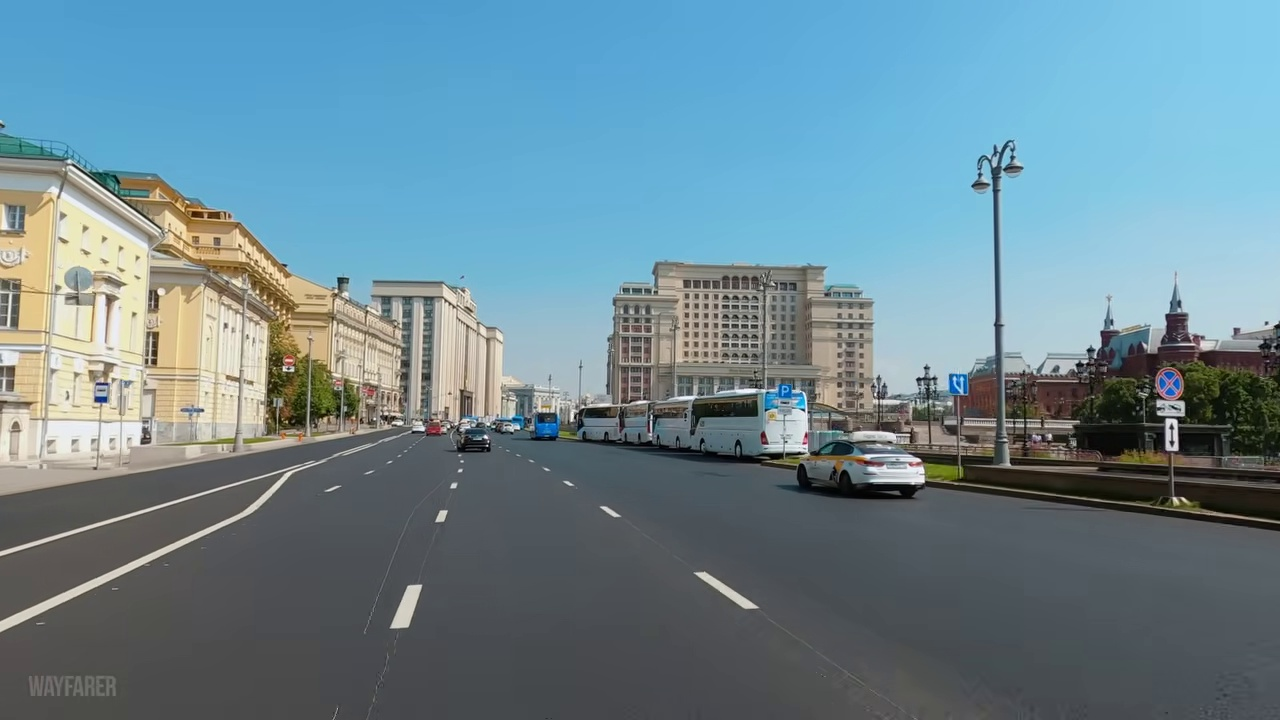apagada: (969, 147, 1024, 194)
